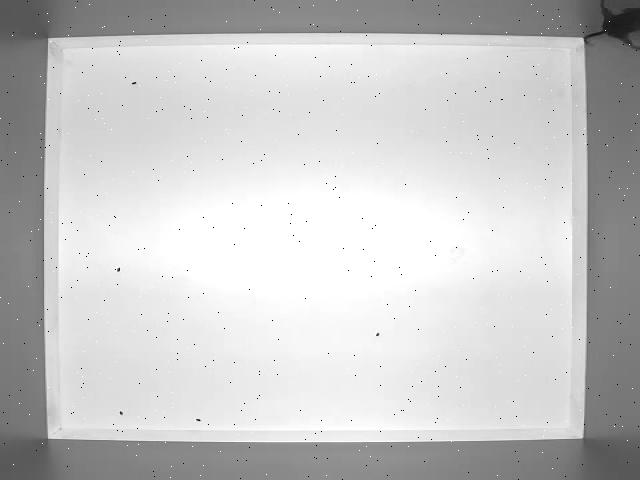Tikus: (583, 0, 640, 53)
